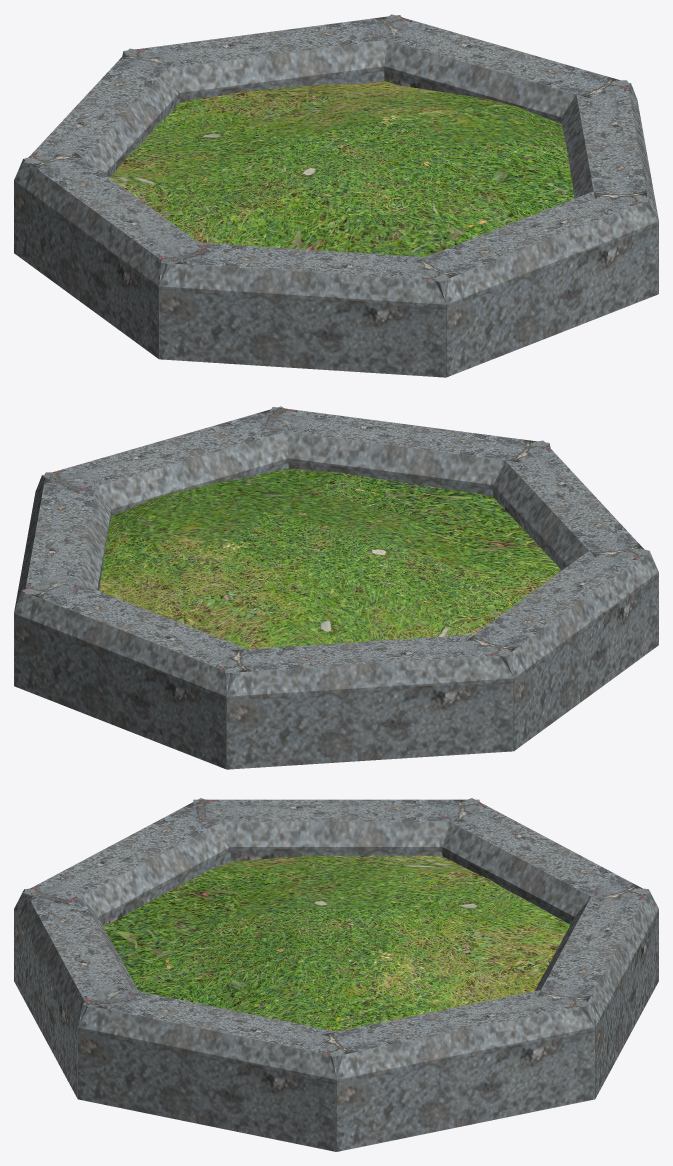
Rendered from parterre_herbe_S.fbx.
The picture shows the model from 3 angles, top to bottom: view 1: azimuth 30°, elevation 25°; view 2: azimuth 150°, elevation 25°; view 3: azimuth 270°, elevation 25°; orthographic projection.
Parts seen in each view (by area): view 1: parterre_herbe_S.002; view 2: parterre_herbe_S.002; view 3: parterre_herbe_S.002.
Part boxes in pixels (bbox=[...]): parterre_herbe_S.002: bbox=[14, 14, 658, 377]; parterre_herbe_S.002: bbox=[14, 406, 658, 769]; parterre_herbe_S.002: bbox=[14, 798, 658, 1151].
Size of the model in its own units: 13.19 by 2.11 by 13.53.
2 materials, 2 textured.
